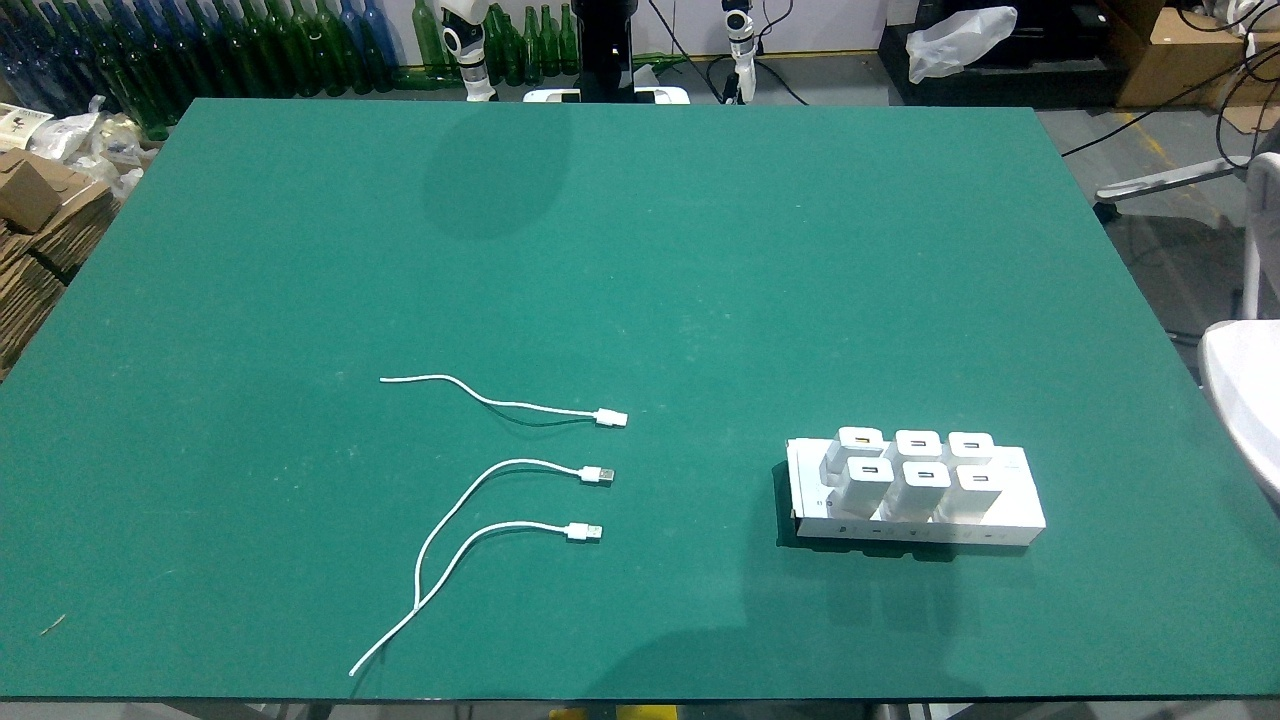usb_a_port: (968, 472, 994, 485), (907, 435, 930, 449), (915, 467, 939, 480), (860, 463, 883, 476), (958, 440, 984, 451), (852, 435, 876, 444)
